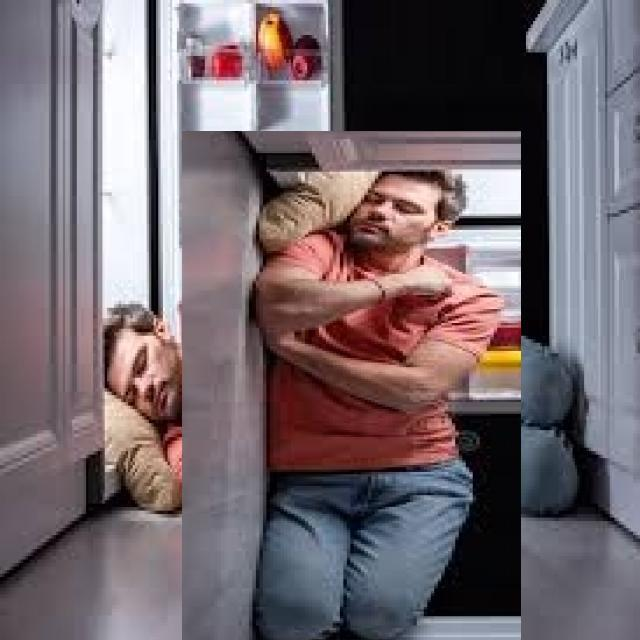Fall: (233, 165, 516, 640)
